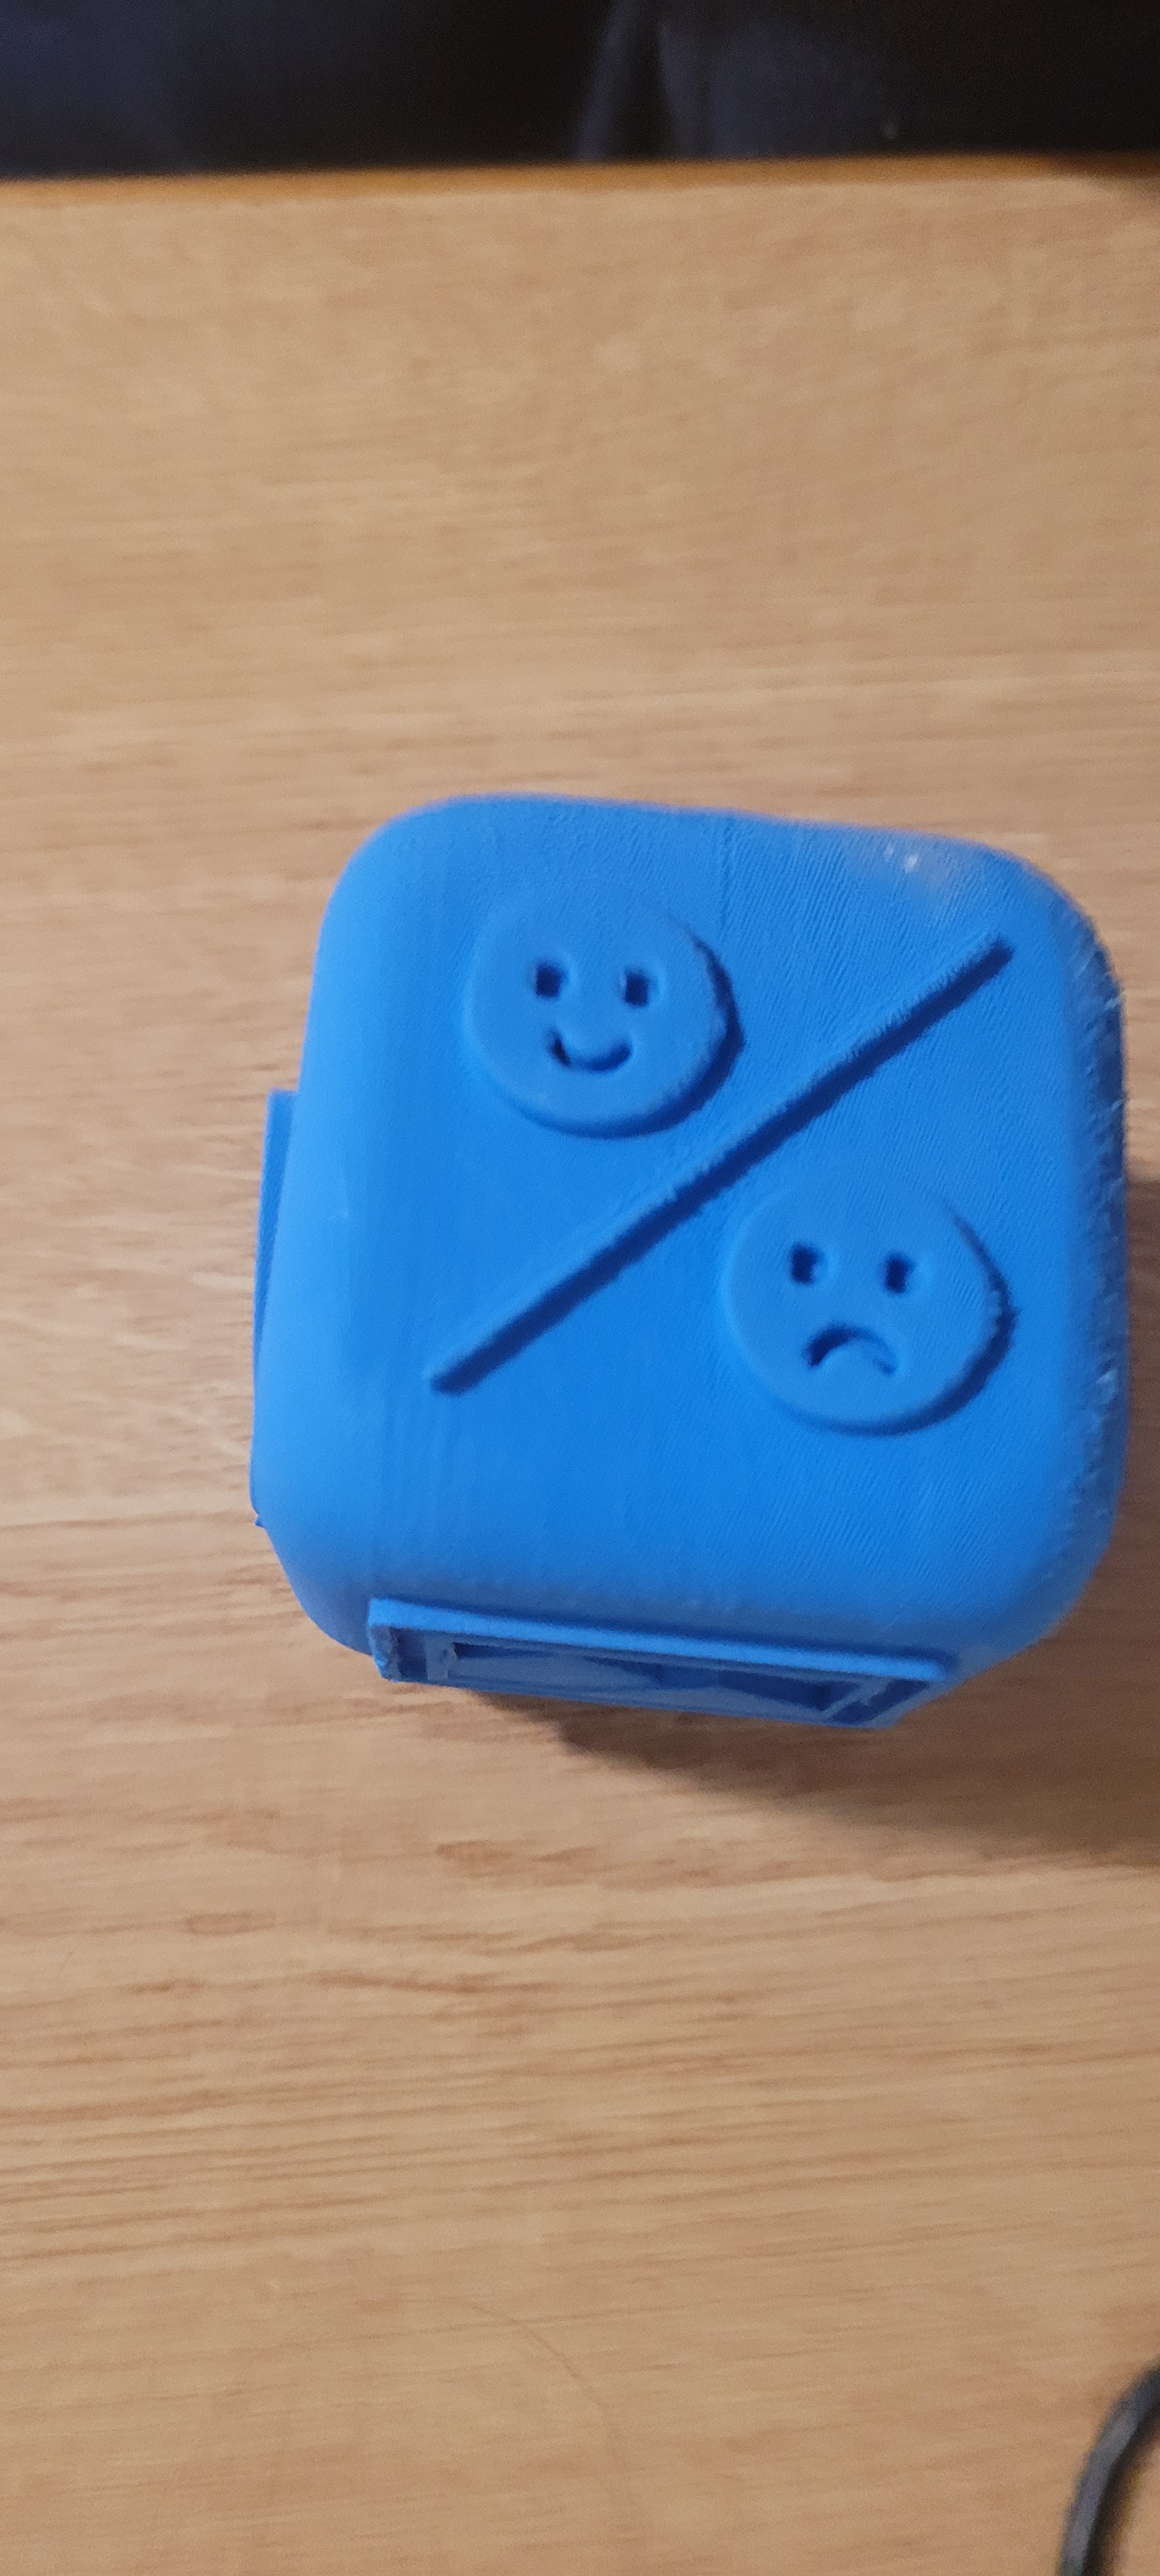Like/Dislike: (268, 779, 1099, 1610)
